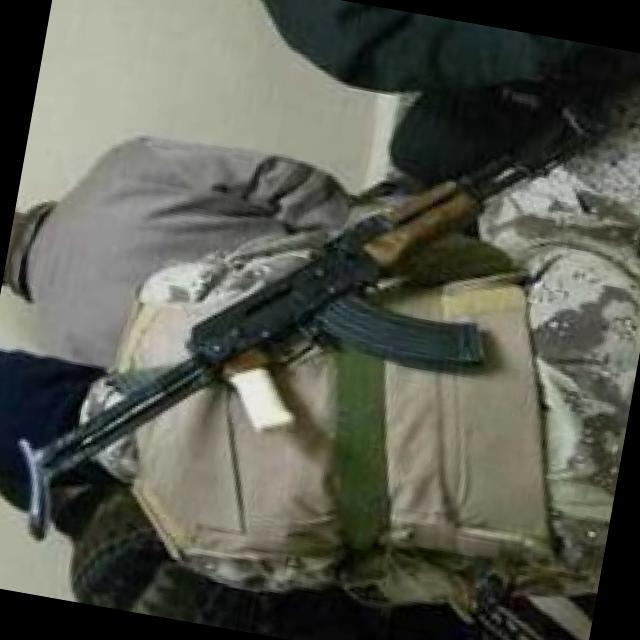long weapon: (0, 70, 621, 581)
